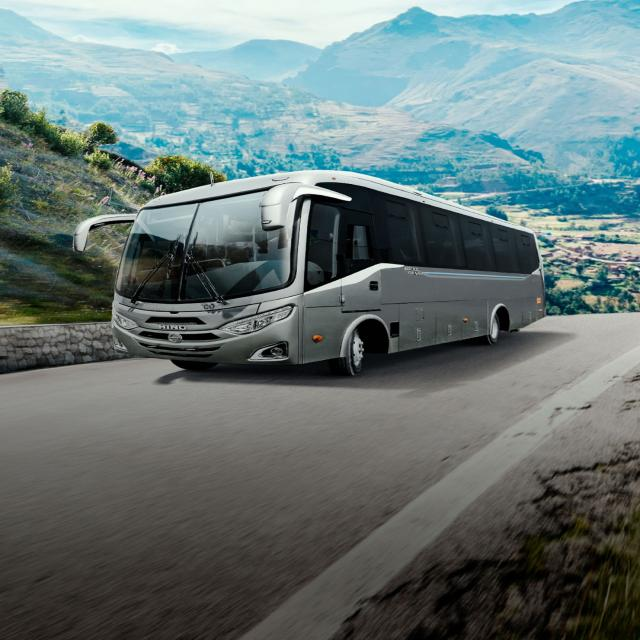BUS: (77, 166, 550, 370)
